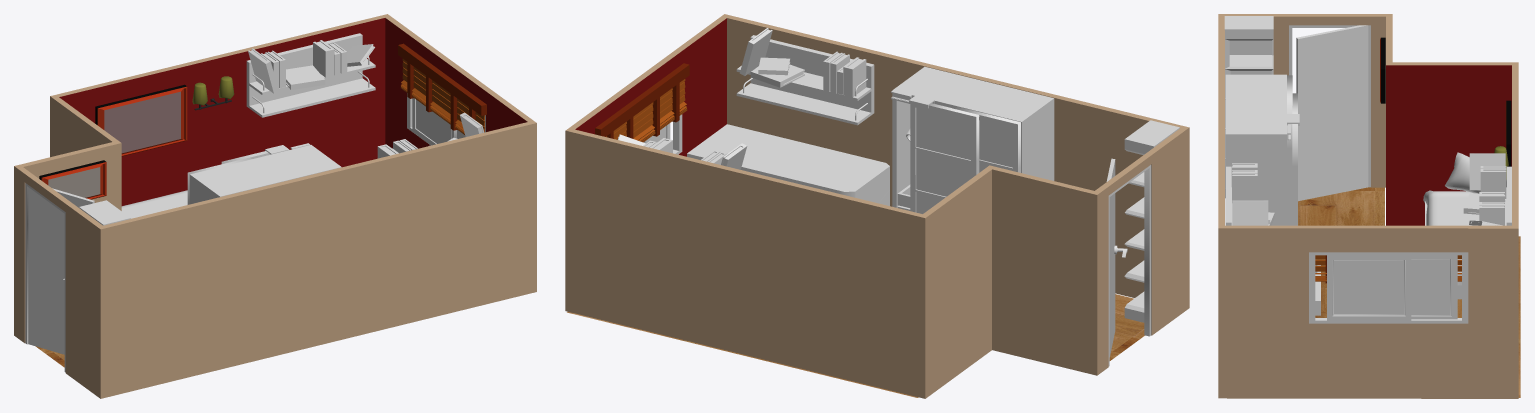
The model's file is TallerModelado_DanielAragón_02.fbx.
The picture shows the model from 3 angles, left to right: view 1: azimuth 30°, elevation 25°; view 2: azimuth 150°, elevation 25°; view 3: azimuth 270°, elevation 25°; orthographic projection. The views are drawn at different scales.
Visible parts, largest first — view 1: Paredes, Puerta, Cuadro1, Estantería_002, Armario, Persiana, Cuadro2, Marco_Puerta, Cubre, Cristal_02, Libro_03, Pantalla_01 (+4 smaller); view 2: Paredes, Armario, Mesa, Puerta_A_01, Estantería_01, Persiana, Estantería_pie, Puerta_A_02, Marco_Puerta, Suelo, Puerta, Libro_08 (+2 smaller); view 3: Paredes, Puerta, Armario, Cristal_01, Suelo, Estantería_pie, Cristal_02, Ventana_marco, Ventana_01, Cubre, Libro_08, Ventana_02 (+14 smaller).
Part boxes in pixels (x1,y1,x2,y2): Paredes: (14, 14, 536, 398); Puerta: (28, 187, 94, 354); Cuadro1: (95, 84, 187, 156); Estantería_002: (246, 33, 375, 117); Armario: (189, 145, 341, 204); Persiana: (398, 43, 486, 134); Cuadro2: (39, 160, 106, 199); Marco_Puerta: (25, 183, 65, 372); Cubre: (121, 190, 187, 218); Cristal_02: (416, 100, 451, 143); Libro_03: (286, 65, 325, 89); Pantalla_01: (192, 76, 234, 110); Paredes: (565, 14, 1189, 398); Armario: (892, 66, 1054, 210); Mesa: (687, 124, 889, 205); Puerta_A_01: (910, 103, 979, 213); Estantería_01: (736, 35, 874, 125); Persiana: (595, 63, 689, 142); Estantería_pie: (1124, 120, 1179, 322); Puerta_A_02: (952, 106, 1020, 172); Marco_Puerta: (1108, 165, 1151, 366); Suelo: (567, 294, 1144, 397); Puerta: (1106, 158, 1115, 356); Libro_08: (739, 28, 772, 75); Paredes: (1218, 14, 1518, 398); Puerta: (1296, 25, 1368, 201); Armario: (1225, 74, 1286, 225); Cristal_01: (1334, 260, 1403, 314); Suelo: (1298, 187, 1520, 397); Estantería_pie: (1224, 16, 1273, 198); Cristal_02: (1403, 259, 1450, 315); Ventana_marco: (1309, 252, 1468, 323); Ventana_01: (1327, 255, 1411, 320); Cubre: (1423, 190, 1479, 285); Libro_08: (1232, 200, 1268, 225); Ventana_02: (1411, 255, 1457, 319).
Size of the model in its own units: 538 by 206 by 321.
Materials: 13 (1 with a texture image).
